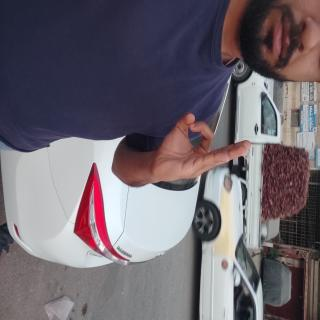Space: (82, 87, 142, 230)
